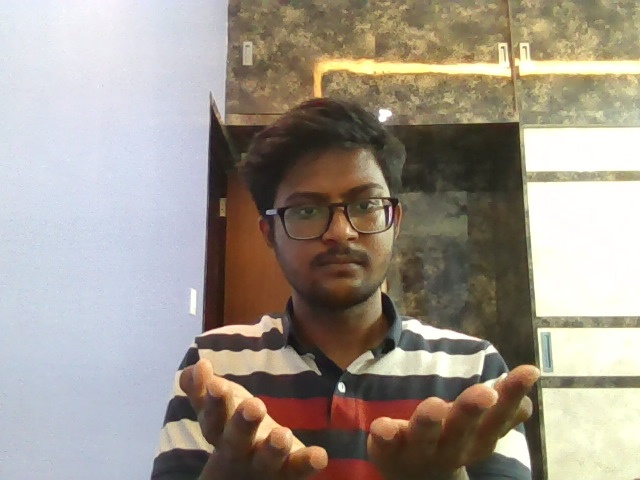what: (159, 350, 562, 480)
